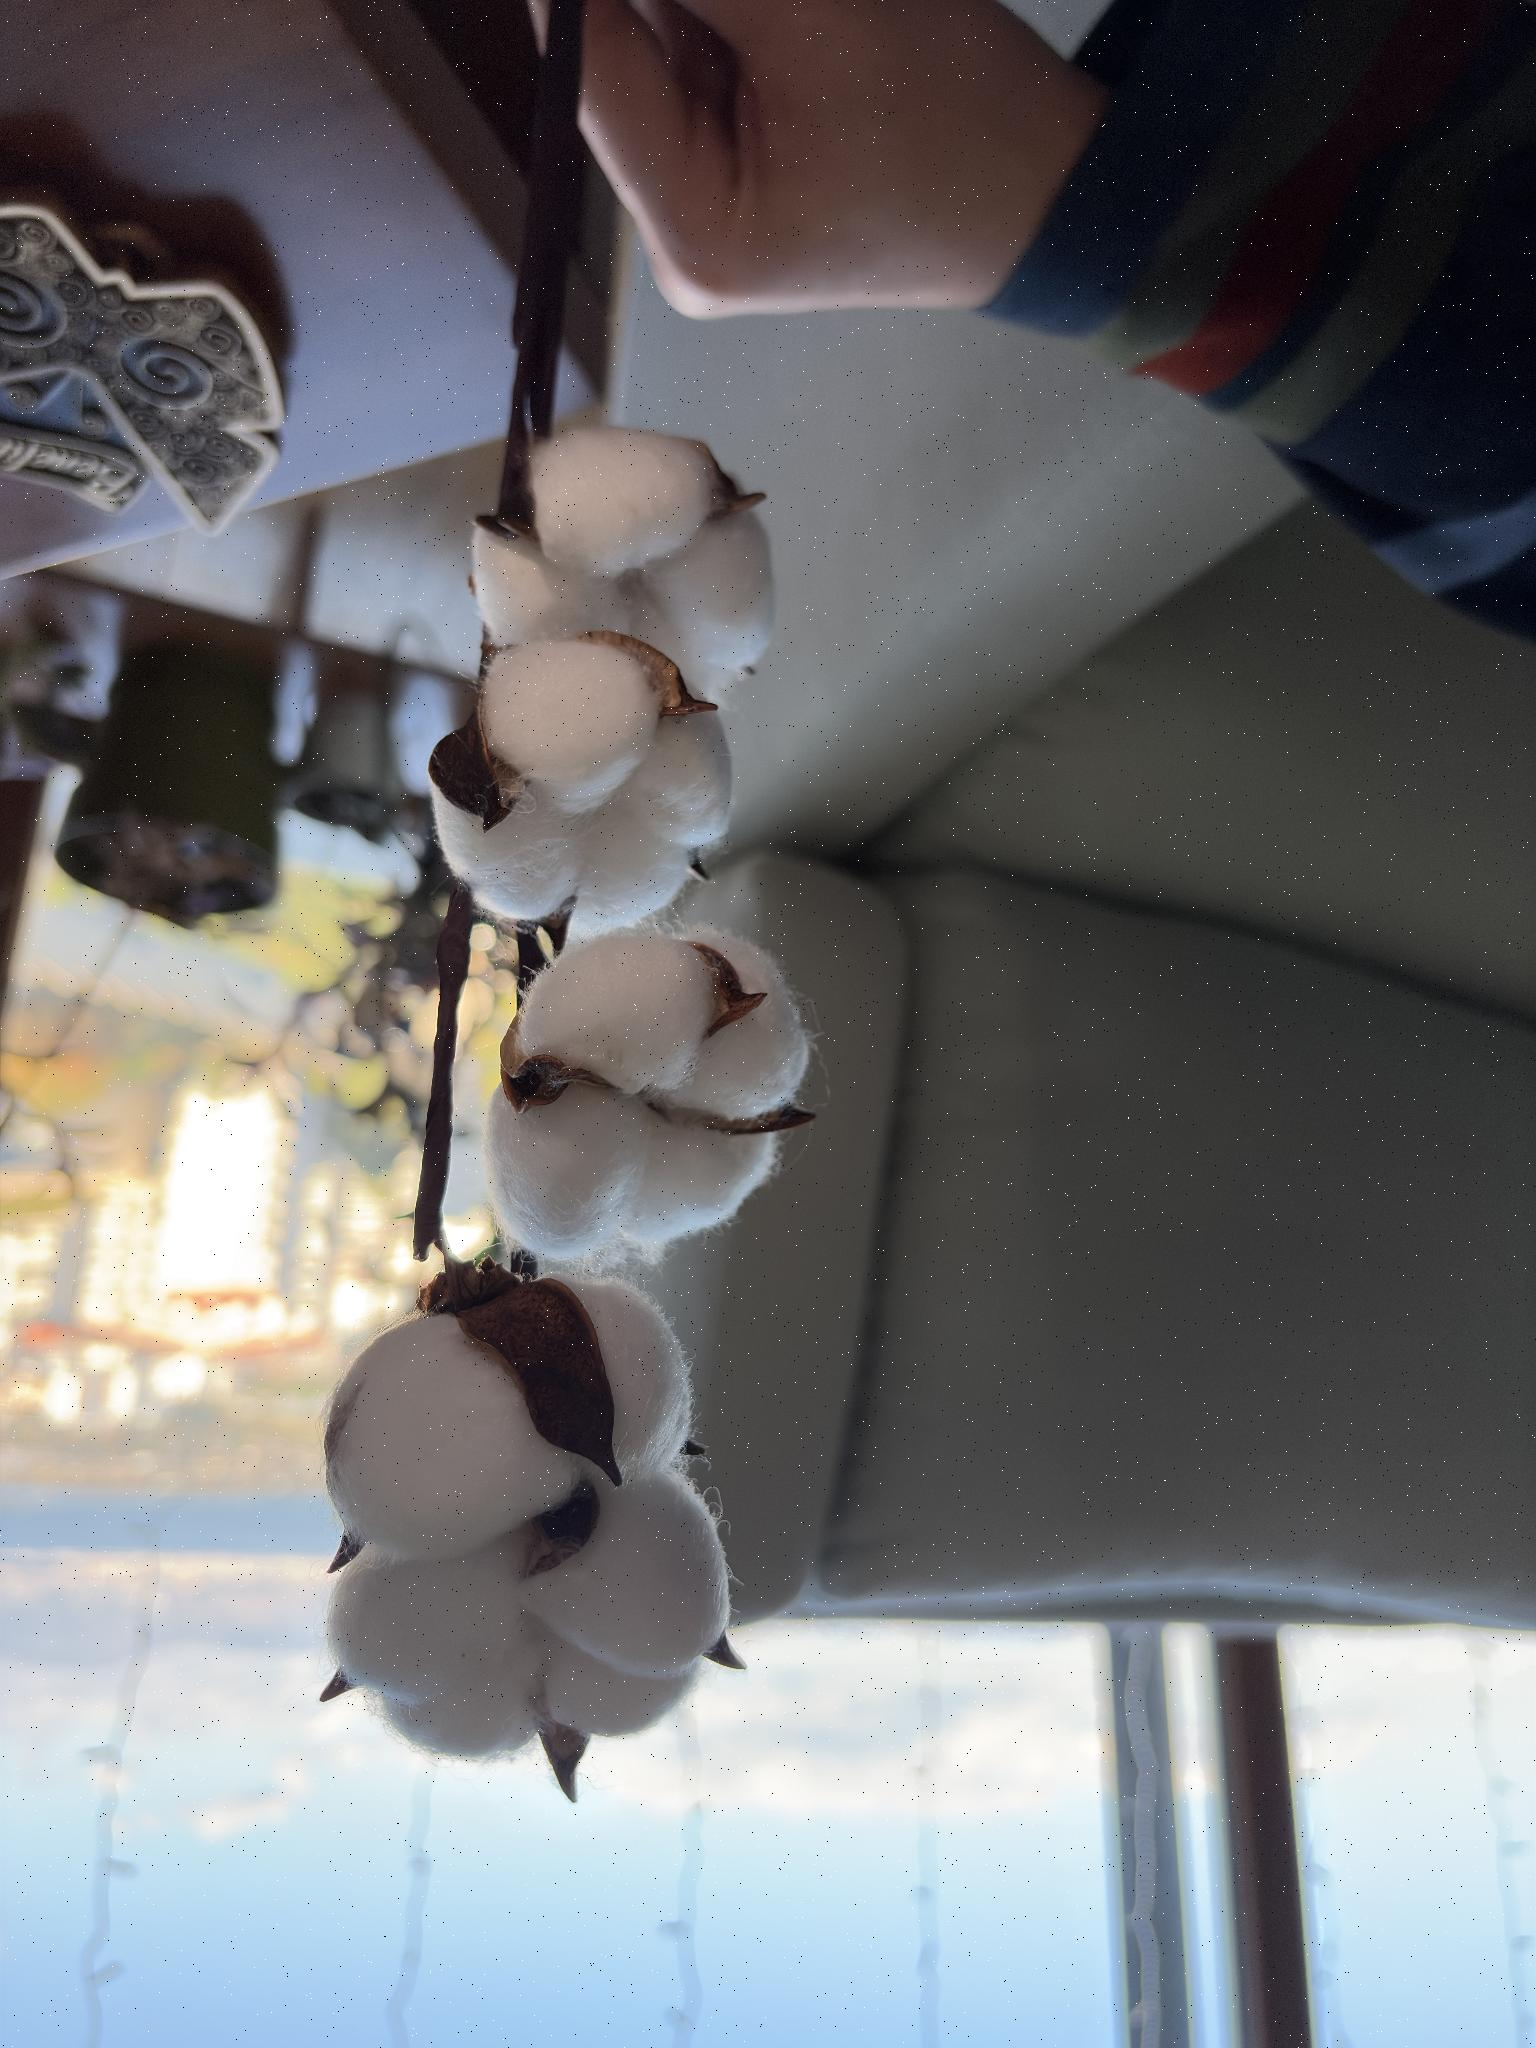cotton_boll: (328, 1314, 586, 1559), (521, 1479, 729, 1679), (328, 1537, 523, 1706), (521, 932, 718, 1093), (481, 640, 658, 813), (486, 1085, 658, 1258), (532, 426, 712, 577), (668, 930, 810, 1121), (571, 1280, 692, 1490), (637, 511, 773, 692), (623, 1111, 779, 1247), (573, 771, 697, 939), (432, 789, 581, 918), (473, 527, 632, 645), (545, 1638, 697, 1737), (628, 713, 731, 850), (382, 1666, 536, 1758)
cotton_boll-cluster: (311, 1258, 734, 1782), (484, 918, 836, 1258), (418, 631, 741, 934), (461, 411, 783, 701)
